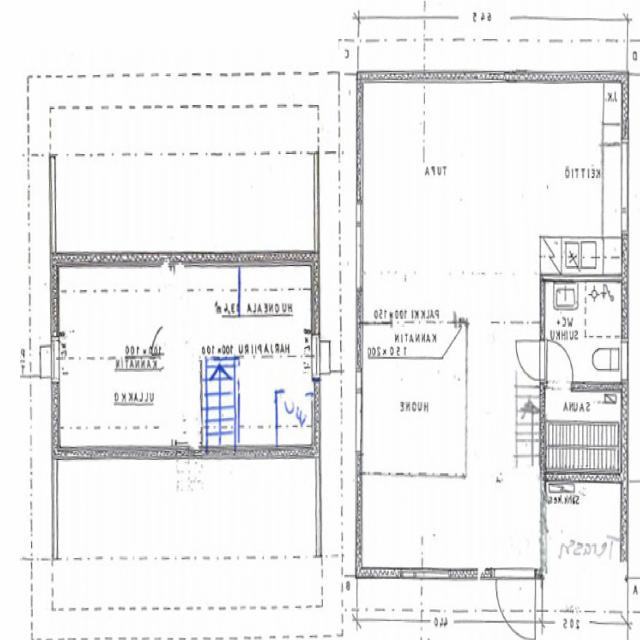door: (496, 568, 535, 638), (547, 342, 573, 390), (515, 340, 545, 379)
